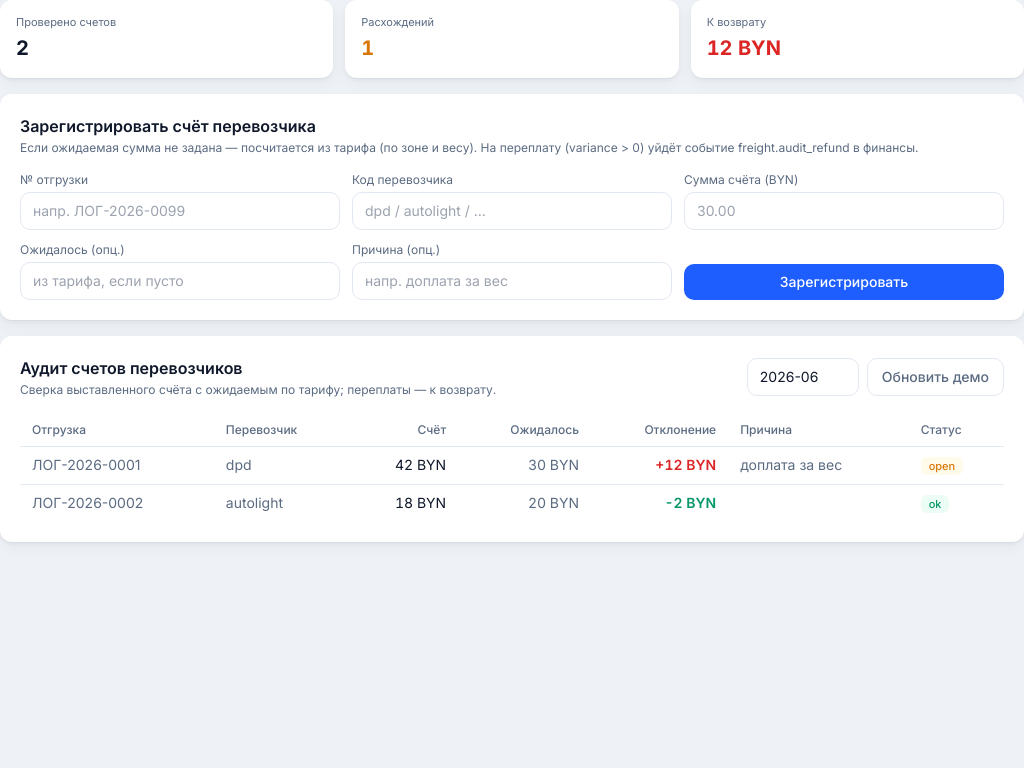
Scenario: LogisticsAudit › валидация: без обязательных полей — ошибка, счёт в backend не уходит
Expected: the text "Проверено счетов" is shown, [16,15,116,29]
Click the button "Зарегистрировать": {"x": 844, "y": 282} [684,264,1004,300]
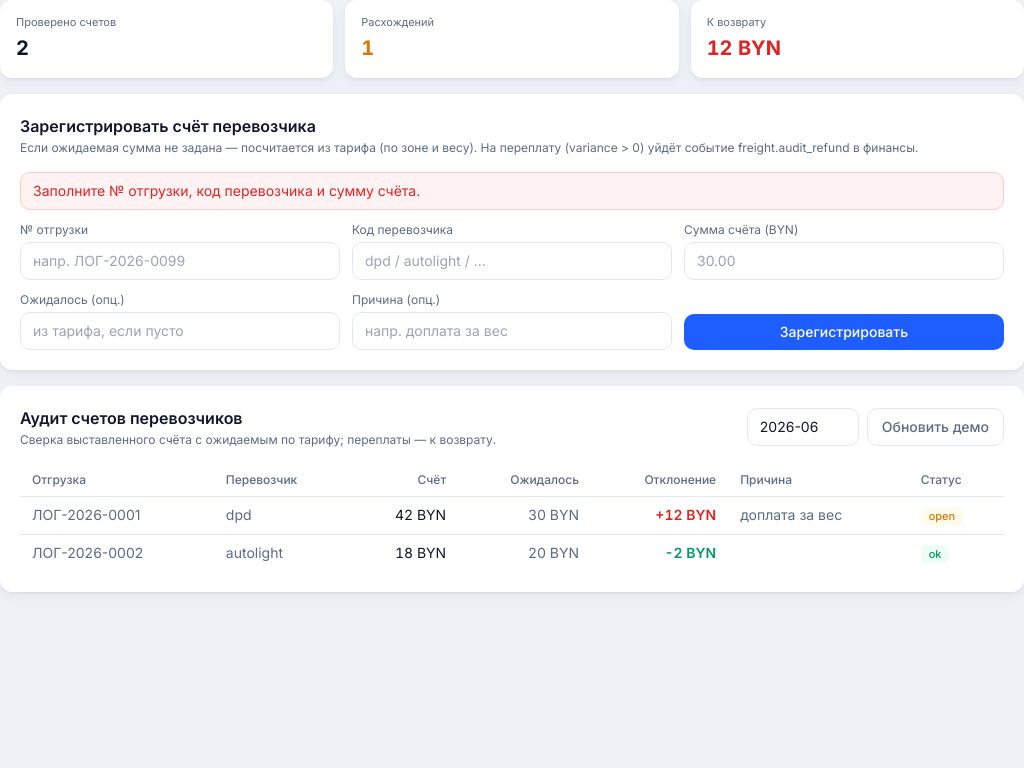
Expected: the text "Заполните № отгрузки, код перевозчика и сумму счёта." is shown, [20,172,1004,210]
